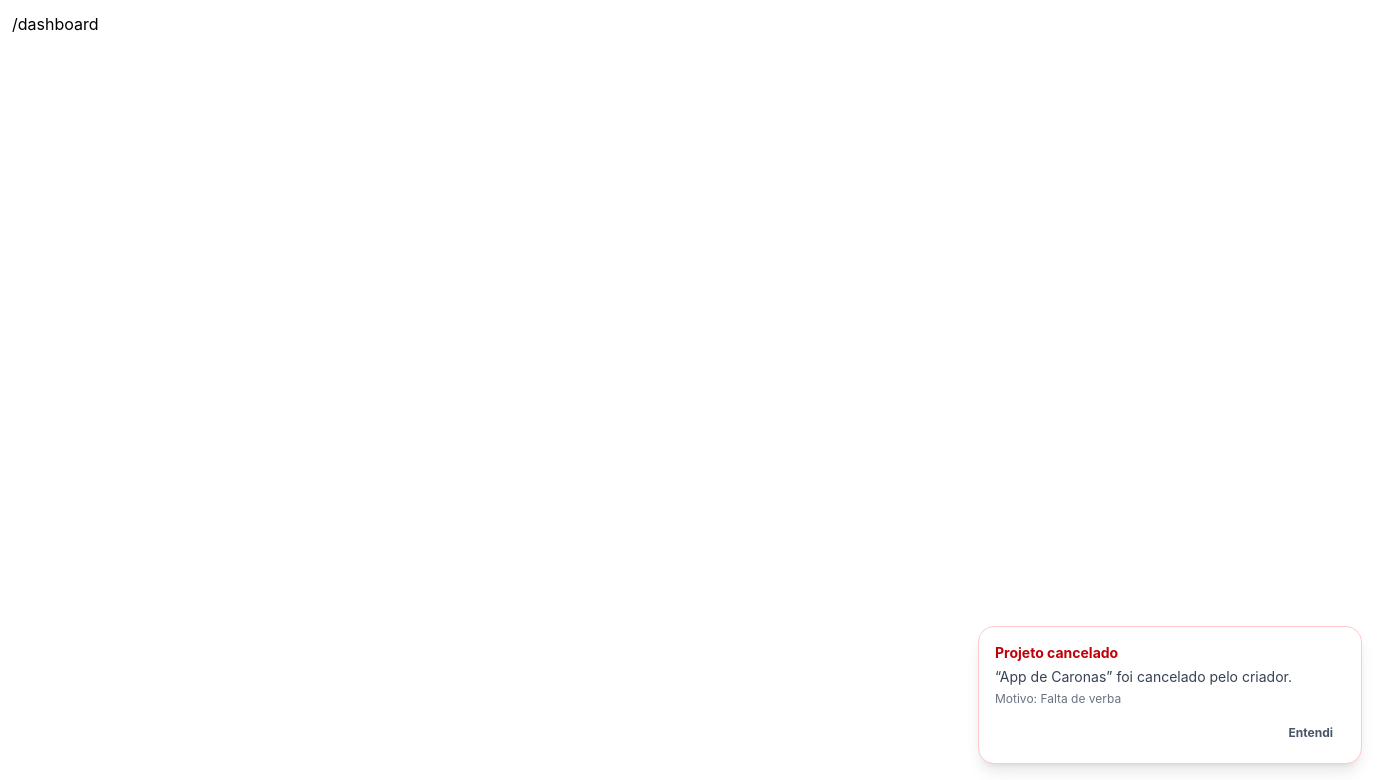
Test: AvisosDeProjeto › mostra o motivo do cancelamento e some ao clicar em entendi
Expected: the text "“App de Caronas” foi cancelado pelo criador." is shown, left=995, top=668, right=1292, bottom=685
Expected: the text "Motivo: Falta de verba" is shown, left=995, top=691, right=1121, bottom=706
Click the button "Entendi" at (1311, 733), box left=1276, top=719, right=1345, bottom=747
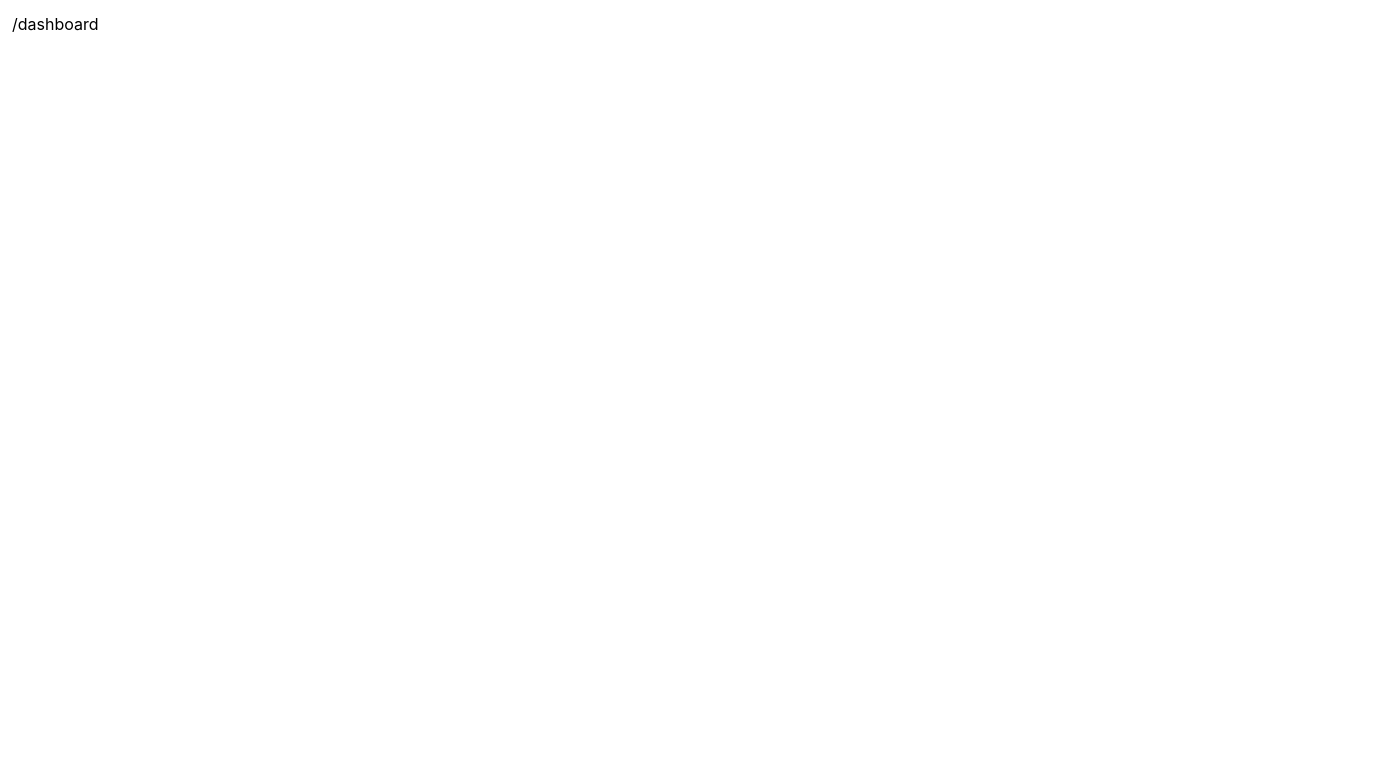
Expected: the text with test id "rota" reads "/dashboard", left=12, top=14, right=98, bottom=34
Expected: the message with test id "aviso-aviso-2" is gone
